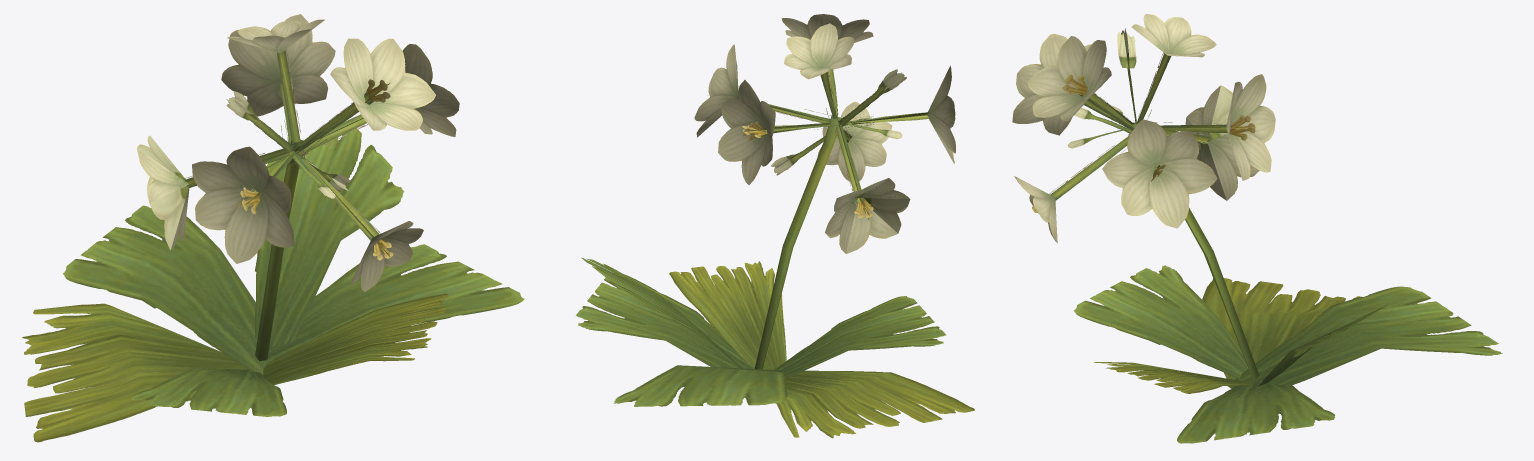
File: Map_Choose_grass05.FBX
3 renders of one model, left to right at view 1: azimuth 30°, elevation 25°; view 2: azimuth 150°, elevation 25°; view 3: azimuth 270°, elevation 25°, orthographic. The views are drawn at different scales.
Parts seen in each view (by area): view 1: Map_Choose_grass05; view 2: Map_Choose_grass05; view 3: Map_Choose_grass05.
Boxes of the visible parts, <box> form: Map_Choose_grass05: <box>22,14,524,442</box>; Map_Choose_grass05: <box>576,14,974,438</box>; Map_Choose_grass05: <box>1012,14,1502,443</box>.
Bounding box in the file's own units: 79.69 × 62.14 × 80.83.
Materials: 1 (1 with a texture image).
